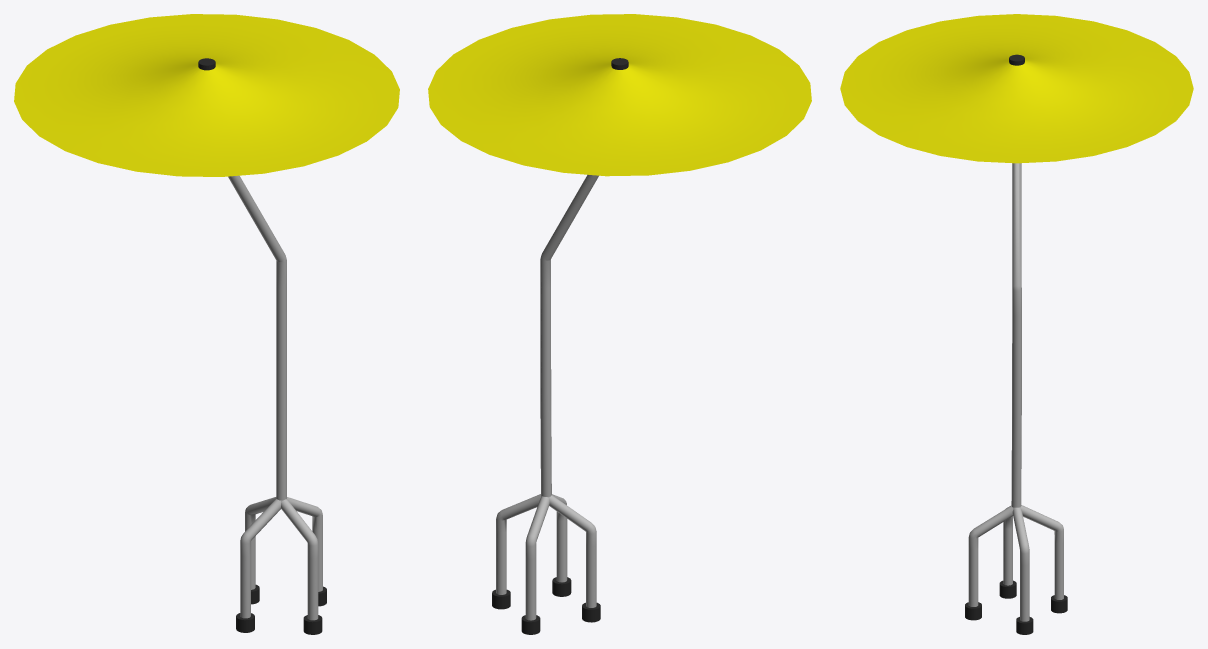
Rendered from Crash.fbx.
The picture shows the model from 3 angles, left to right: view 1: azimuth 30°, elevation 25°; view 2: azimuth 150°, elevation 25°; view 3: azimuth 270°, elevation 25°; orthographic projection. The views are drawn at different scales.
Parts seen in each view (by area): view 1: Crash; view 2: Crash; view 3: Crash.
Boxes of the visible parts, x1,y1,x2,y2 form: Crash: [14, 14, 399, 634]; Crash: [428, 14, 811, 634]; Crash: [840, 14, 1193, 634].
Size of the model in its own units: 216 by 352 by 216.
